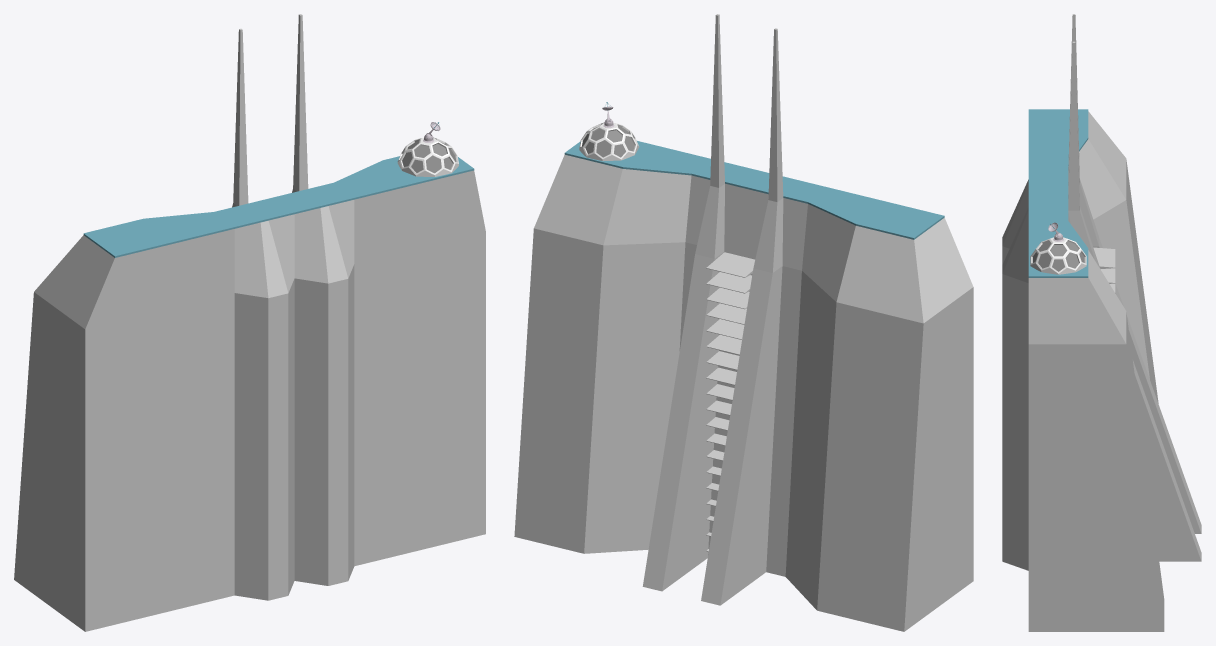
The model's file is hydroelectric dam_v2.fbx.
The picture shows the model from 3 angles, left to right: view 1: azimuth 30°, elevation 25°; view 2: azimuth 150°, elevation 25°; view 3: azimuth 270°, elevation 25°; orthographic projection. The views are drawn at different scales.
Visible parts, largest first — view 1: dam.001; view 2: dam.001; view 3: dam.001.
Boxes of the visible parts, x1=… form: dam.001: x1=14, y1=14, x2=485, y2=631; dam.001: x1=514, y1=14, x2=973, y2=631; dam.001: x1=1002, y1=14, x2=1201, y2=631.
Size of the model in its own units: 28722 by 12991 by 37815.
